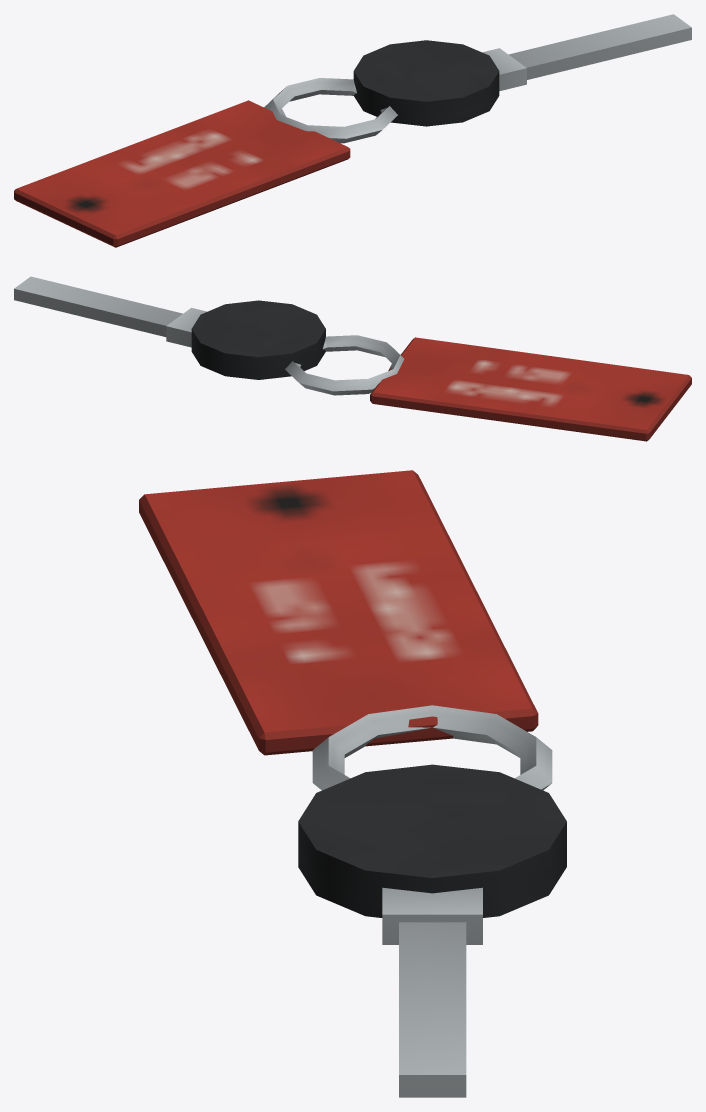
The model's file is launch_key.glb.
3 views of the same model, one above another, from view 1: azimuth 30°, elevation 25°; view 2: azimuth 150°, elevation 25°; view 3: azimuth 270°, elevation 25° (orthographic). The views are drawn at different scales.
Visible parts, largest first — view 1: launch_key; view 2: launch_key; view 3: launch_key.
Boxes of the visible parts, left/top/right/bottom form: launch_key: left=14, top=14, right=691, bottom=247; launch_key: left=14, top=276, right=691, bottom=441; launch_key: left=139, top=470, right=566, bottom=1097.
Bounding box in the file's own units: 0.171 × 0.006 × 0.051.
1 material, 1 textured.
